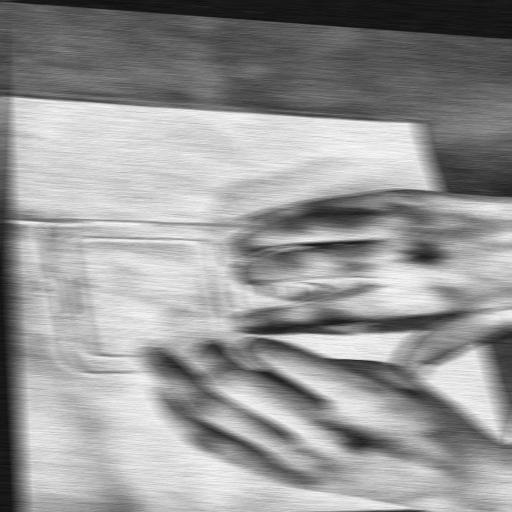mobile: (6, 207, 456, 378)
